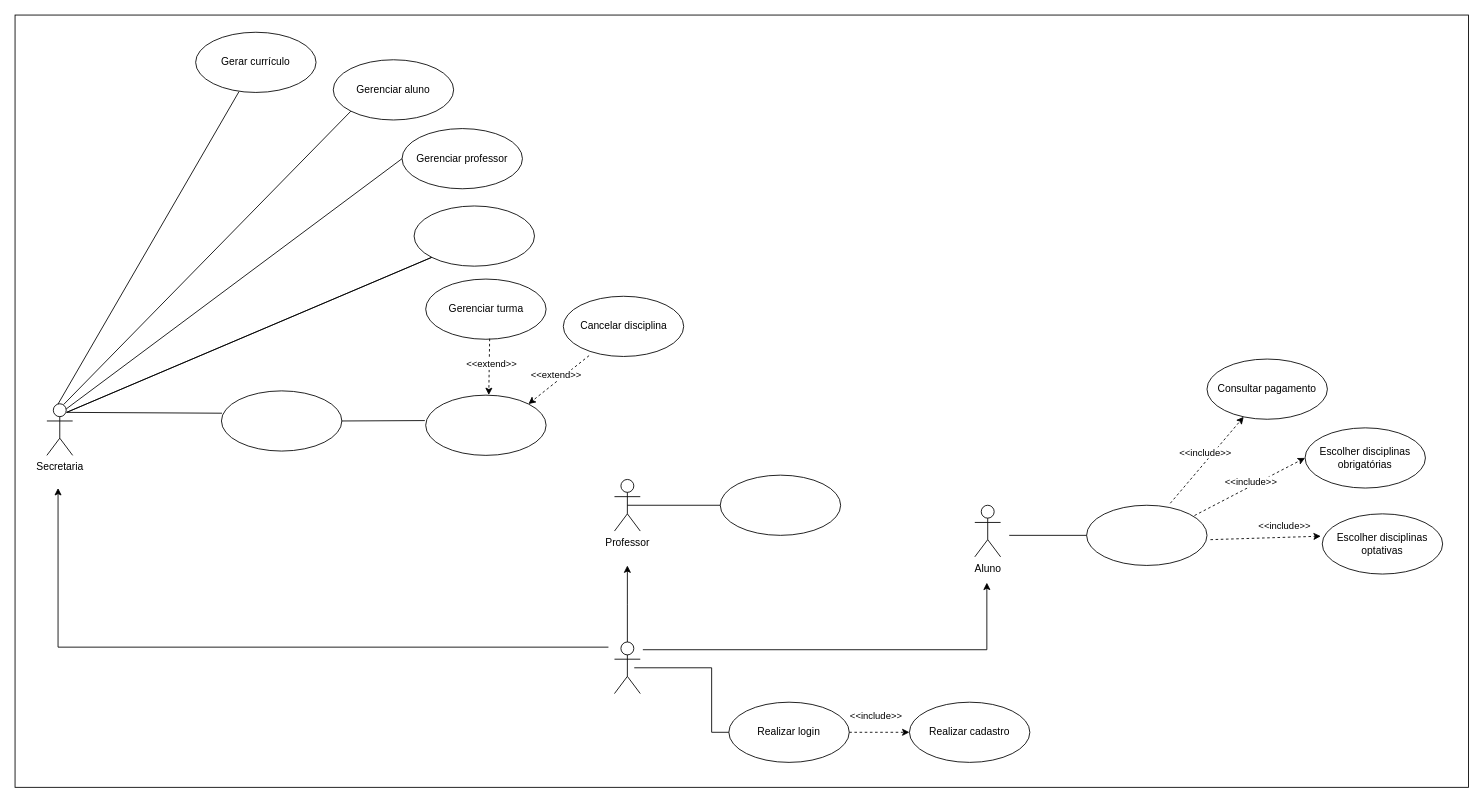
The diagram is 1484 pixels wide and 802 high, and some of its shapes have lost their labels. Each missing label, with the box of its shape:
Consultar alunos na turma: (719, 474, 841, 535)
Gerenciar cobrança financeira: (413, 205, 534, 266)
Gerenciar curso: (221, 390, 342, 451)
Gerenciar disciplina: (425, 394, 546, 455)
Realizar matrícula: (1086, 504, 1207, 565)
Usuário: (614, 641, 640, 694)
